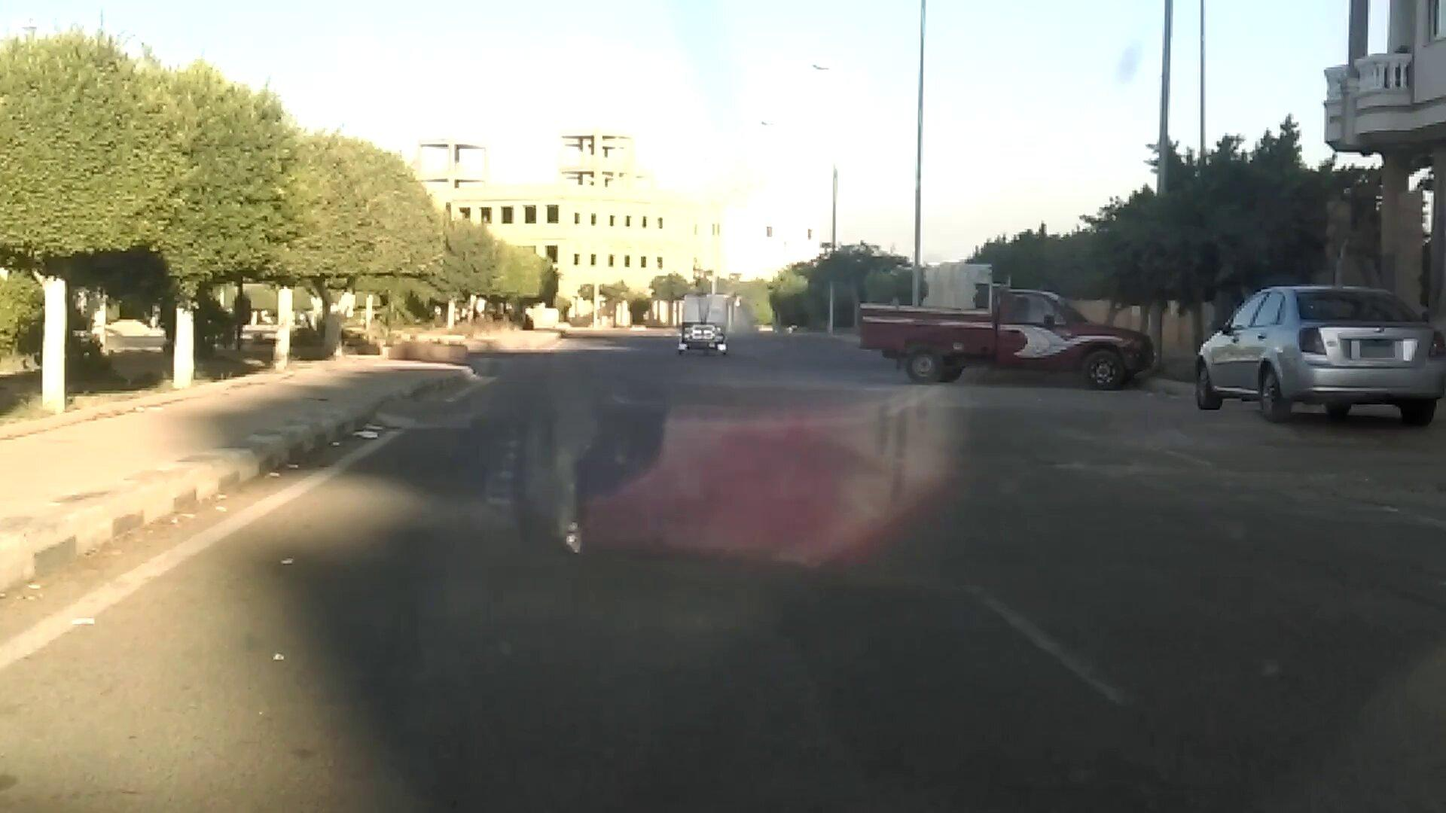Pothole: (1077, 472, 1243, 521)
